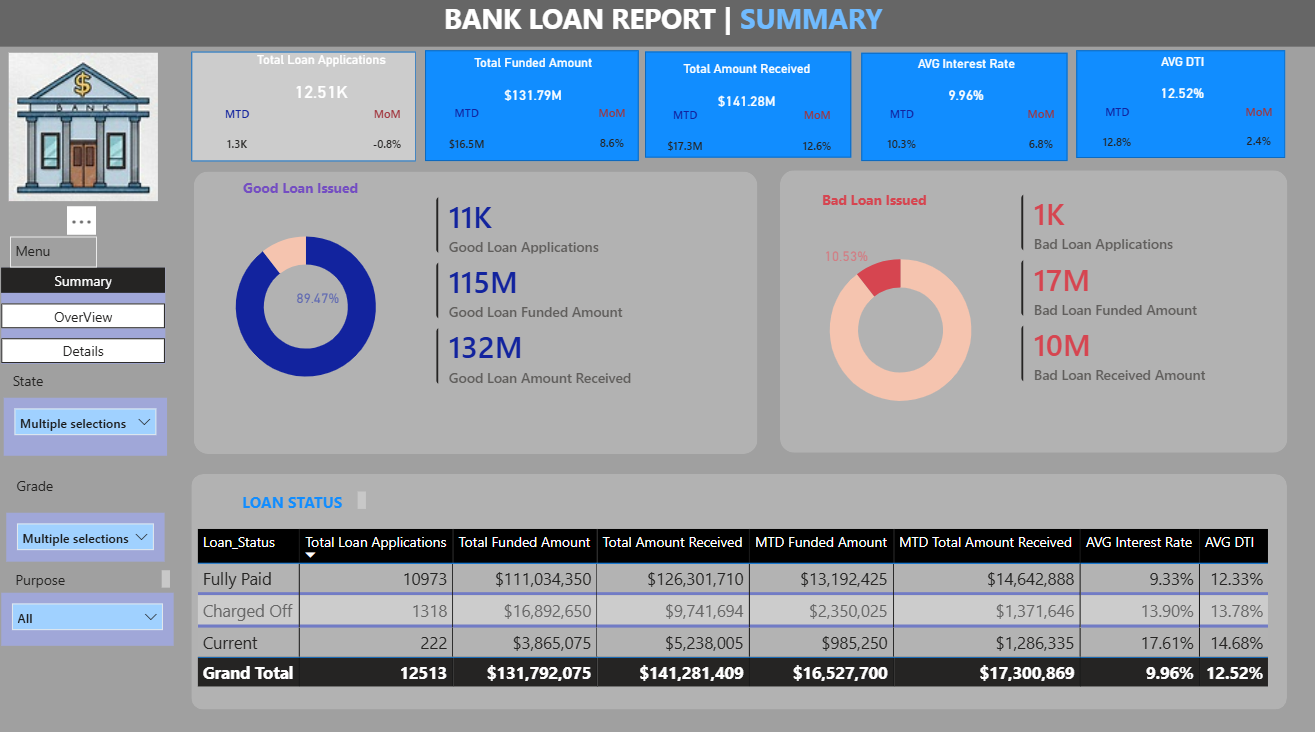

What the dashboard file says about the page in this screenshot:
{"tool":"powerbi","page":{"name":"Summary","canvas":[1280,720],"ordinal":0},"visuals":[{"type":"shape","box":[0,0,1280,50.8],"z":0},{"type":"shape","box":[701.6,53.6,162,98],"z":0,"group":"g5"},{"type":"shape","box":[873.8,53.8,162,98],"z":0,"group":"g6"},{"type":"shape","box":[357,54,162,98],"z":0,"group":"g3"},{"type":"shape","box":[530,54.3,162,98],"z":0,"group":"g4"},{"type":"shape","box":[183,55,162,98],"z":0,"group":"g1"},{"type":"shape","box":[182.5,170,551.2,272.5],"z":0,"group":"g2"},{"type":"shape","box":[757.6,170.1,498.3,272.7],"z":0,"group":"g7"},{"type":"card","title":"Total Loan Applications","fields":{"Values":["Bank_Loan_dataset.Total Loan Applications"]},"box":[208,55.9,137,48.1],"z":1000,"group":"g1"},{"type":"card","title":"AVG Interest Rate","fields":{"Values":["Bank_Loan_dataset.AVG Interest Rate"]},"box":[716,57.6,135.6,50],"z":1000,"group":"g5"},{"type":"card","title":"AVG DTI","fields":{"Values":["Bank_Loan_dataset.AVG DTI"]},"box":[888.2,57.8,135.6,50],"z":1000,"group":"g6"},{"type":"card","title":"Total Funded Amount","fields":{"Values":["Bank_Loan_dataset.Total Funded Amount"]},"box":[371.4,58,135.6,50],"z":1000,"group":"g3"},{"type":"card","title":"Total  Amount Received","fields":{"Values":["Bank_Loan_dataset.Total Amount REceived"]},"box":[544.4,58.3,135.6,50],"z":1000,"group":"g4"},{"type":"donutChart","fields":{"Category":["Bank_Loan_dataset.Good vs Bad Loan(groups)"],"Y":["Bank_Loan_dataset.Total Loan Applications"]},"box":[195.2,211.3,195.2,179],"z":1000,"group":"g2"},{"type":"donutChart","fields":{"Category":["Bank_Loan_dataset.Good vs Bad Loan(groups)"],"Y":["Bank_Loan_dataset.Total Loan Applications"]},"box":[773.7,233.9,205.1,181],"z":1000,"group":"g7"},{"type":"shape","box":[190,463.8,1057.5,227.5],"z":1000},{"type":"card","title":"MTD","fields":{"Values":["Bank_Loan_dataset.MTD AVG Interest Rate"]},"box":[708.3,102,50,50],"z":2000,"group":"g5"},{"type":"card","title":"MTD","fields":{"Values":["Bank_Loan_dataset.MTD AVG DTI"]},"box":[880.5,102.2,50,50],"z":2000,"group":"g6"},{"type":"card","title":"MTD","fields":{"Values":["Bank_Loan_dataset.MTD Funded Amount Applications"]},"box":[363.7,102.4,50,50],"z":2000,"group":"g3"},{"type":"card","title":"MTD","fields":{"Values":["Bank_Loan_dataset.MTD Total Amount Received"]},"box":[536.7,102.7,50,50],"z":2000,"group":"g4"},{"type":"card","title":"MTD","fields":{"Values":["Bank_Loan_dataset.MTD Loan Applications"]},"box":[196,104,41,49],"z":2000,"group":"g1"},{"type":"textbox","box":[215.5,171.3,142.8,31.9],"z":2000,"group":"g2"},{"type":"textbox","box":[786.4,184.3,128.5,30.8],"z":2000,"group":"g7"},{"type":"card","title":"AVG Interest Rate","fields":{"Values":["Bank_Loan_dataset.Bad Loan %"]},"box":[753.8,228.8,135.6,50],"z":2000},{"type":"card","title":"MoM","fields":{"Values":["Bank_Loan_dataset.MOm AVG Interest Rate"]},"box":[822.6,102.6,41,49],"z":3000,"group":"g5"},{"type":"card","title":"MoM","fields":{"Values":["Bank_Loan_dataset.MoM AVG DTI"]},"box":[994.8,102.8,41,49],"z":3000,"group":"g6"},{"type":"card","title":"MoM","fields":{"Values":["Bank_Loan_dataset.MoM Total Funded Amount"]},"box":[478,103,41,49],"z":3000,"group":"g3"},{"type":"card","title":"MoM","fields":{"Values":["Bank_Loan_dataset.MoM Total Amount Recieved"]},"box":[651,103.3,41,49],"z":3000,"group":"g4"},{"type":"card","title":"MoM","fields":{"Values":["Bank_Loan_dataset.MoM Loan Applications"]},"box":[304,104,41,49],"z":3000,"group":"g1"},{"type":"cardVisual","fields":{"Data":["Bank_Loan_dataset.Bad Loan Applications","Bank_Loan_dataset.Bad Loan Funded Amount","Bank_Loan_dataset.Bad Loan Received Amount"]},"box":[977.6,176,271.4,226.8],"z":3000,"group":"g7"},{"type":"cardVisual","fields":{"Data":["Bank_Loan_dataset.Good Loan Applications","Bank_Loan_dataset.Good Loan Funded Amount","Bank_Loan_dataset.Good Loan Amount Received"]},"box":[402.1,177.5,277.5,246.2],"z":3000,"group":"g2"},{"type":"card","title":"AVG Interest Rate","fields":{"Values":["Bank_Loan_dataset.Good Loan %"]},"box":[252.5,275,119.1,40],"z":3000},{"type":"textbox","box":[220,475,143.8,26.2],"z":4000},{"type":"textbox","box":[386.1,0,517.6,49.5],"z":5000},{"type":"group","id":"g1","title":"Group 1","box":[183,55,162,98],"z":6000},{"type":"group","id":"g2","title":"Group 2","box":[182.5,170,551.2,272.5],"z":7000},{"type":"group","id":"g3","title":"Group 1","box":[357,54,162,98.4],"z":8000},{"type":"group","id":"g4","title":"Group 1","box":[530,54.3,161.4,98.6],"z":9000},{"type":"group","id":"g5","title":"Group 1","box":[701.6,53.6,162,98.4],"z":10000},{"type":"group","id":"g6","title":"Group 1","box":[873.8,53.8,162.5,98.8],"z":11000},{"type":"group","id":"g7","title":"Group 2","box":[757.6,170.1,498.3,272.7],"z":12000},{"type":"tableEx","fields":{"Values":["Bank_Loan_dataset.loan_status","Bank_Loan_dataset.Total Loan Applications","Bank_Loan_dataset.Total Funded Amount","Bank_Loan_dataset.Total Amount Received","Bank_Loan_dataset.MTD Funded Amount","Bank_Loan_dataset.MTD Total Amount Received","Bank_Loan_dataset.AVG Interest Rate","Bank_Loan_dataset.AVG DTI"]},"box":[190,511.2,1045,180],"z":13000},{"type":"slicer","fields":{"Values":["Bank_Loan_dataset.address_state"]},"box":[8.8,390,157.5,56.2],"z":14000},{"type":"textbox","box":[12.5,360,155.6,30.2],"z":15000},{"type":"slicer","fields":{"Values":["Bank_Loan_dataset.grade"]},"box":[11.2,501.2,152.5,47.5],"z":16000},{"type":"slicer","fields":{"Values":["Bank_Loan_dataset.purpose","Bank_Loan_dataset.grade"]},"box":[6.2,577.5,166.2,51.2],"z":17000},{"type":"textbox","box":[16.2,461.2,84.5,27.7],"z":18000},{"type":"textbox","box":[14.5,551.3,159.3,26.5],"z":19000},{"type":"image","box":[6.2,50,157.5,185],"z":20000},{"type":"pageNavigator","box":[6.2,243.8,157.5,92.5],"z":21000}]}

Visuals, with their boxes on the page's 1280x720 design canvas (x1, y1, x2, y2). These are canvas units, not pixel positions in the 1315x732 screenshot, which may show the page scaled, cropped or inside an application window:
shape: 0:0:1280:51
shape: 702:54:864:152
shape: 874:54:1036:152
shape: 357:54:519:152
shape: 530:54:692:152
shape: 183:55:345:153
shape: 182:170:734:442
shape: 758:170:1256:443
"Total Loan Applications" card: 208:56:345:104
"AVG Interest Rate" card: 716:58:852:108
"AVG DTI" card: 888:58:1024:108
"Total Funded Amount" card: 371:58:507:108
"Total  Amount Received" card: 544:58:680:108
donutChart - Bank_Loan_dataset.Good vs Bad Loan(groups) x Bank_Loan_dataset.Total Loan Applications: 195:211:390:390
donutChart - Bank_Loan_dataset.Good vs Bad Loan(groups) x Bank_Loan_dataset.Total Loan Applications: 774:234:979:415
shape: 190:464:1248:691
"MTD" card: 708:102:758:152
"MTD" card: 880:102:930:152
"MTD" card: 364:102:414:152
"MTD" card: 537:103:587:153
"MTD" card: 196:104:237:153
textbox: 216:171:358:203
textbox: 786:184:915:215
"AVG Interest Rate" card: 754:229:889:279
"MoM" card: 823:103:864:152
"MoM" card: 995:103:1036:152
"MoM" card: 478:103:519:152
"MoM" card: 651:103:692:152
"MoM" card: 304:104:345:153
cardVisual - Bank_Loan_dataset.Bad Loan Applications x Bank_Loan_dataset.Bad Loan Funded Amount: 978:176:1249:403
cardVisual - Bank_Loan_dataset.Good Loan Applications x Bank_Loan_dataset.Good Loan Funded Amount: 402:178:680:424
"AVG Interest Rate" card: 252:275:372:315
textbox: 220:475:364:501
textbox: 386:0:904:50
"Group 1" group: 183:55:345:153
"Group 2" group: 182:170:734:442
"Group 1" group: 357:54:519:152
"Group 1" group: 530:54:691:153
"Group 1" group: 702:54:864:152
"Group 1" group: 874:54:1036:153
"Group 2" group: 758:170:1256:443
tableEx - Bank_Loan_dataset.loan_status x Bank_Loan_dataset.Total Loan Applications: 190:511:1235:691
slicer - Bank_Loan_dataset.address_state: 9:390:166:446
textbox: 12:360:168:390
slicer - Bank_Loan_dataset.grade: 11:501:164:549
slicer - Bank_Loan_dataset.purpose x Bank_Loan_dataset.grade: 6:578:172:629
textbox: 16:461:101:489
textbox: 14:551:174:578
image: 6:50:164:235
pageNavigator: 6:244:164:336
